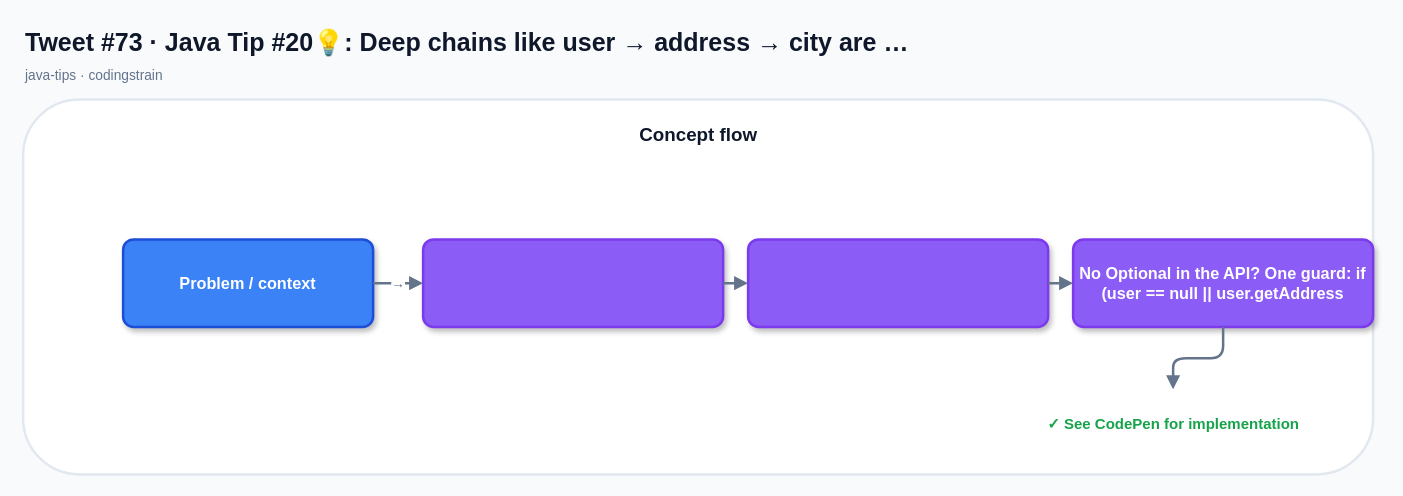
Image size: 1403x496. Some labels were removed from this diagram. Each missing label, with the centre of its shape:
Optional: findByEmail(email).map(User::getAddress).map(Address::getCit: pixel 898 284
💡 Java Tip #20💡: Deep chains like user → address → city are a classic: pixel 573 284
